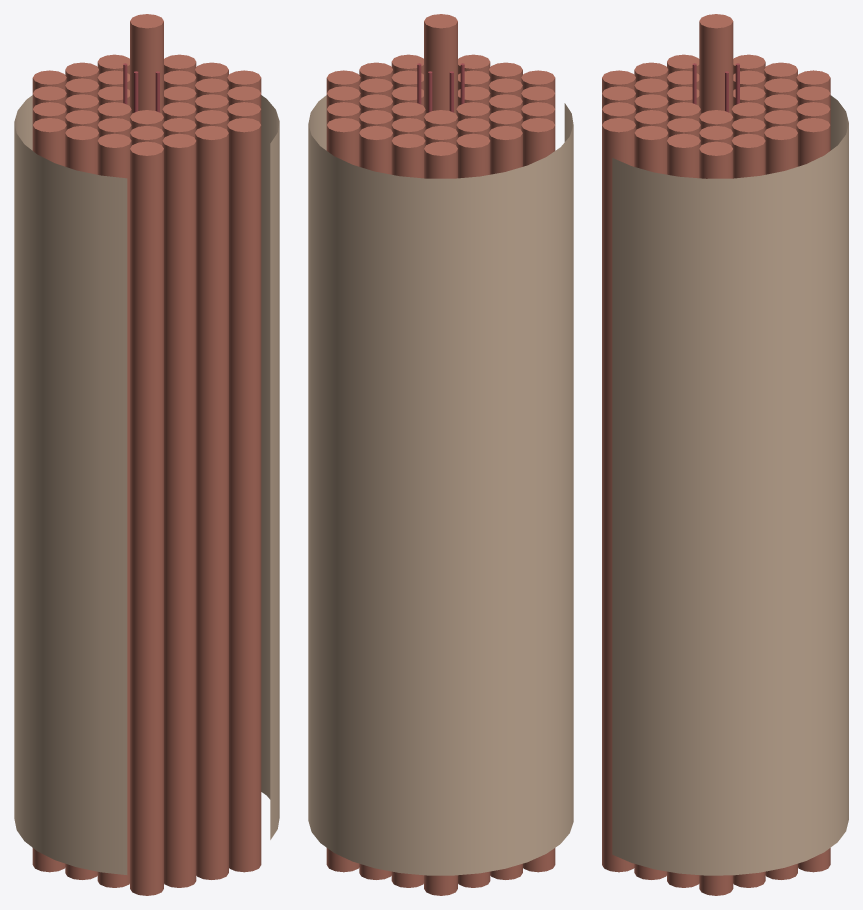
File: fascicle-context.glb
3 views of the same model, side by side, from view 1: azimuth 30°, elevation 25°; view 2: azimuth 150°, elevation 25°; view 3: azimuth 270°, elevation 25° (orthographic).
Visible parts, largest first — view 1: pilot-perimysium, pilot-fiber-33, pilot-fiber-25, pilot-fiber-35, pilot-fiber-27, pilot-fiber-23, pilot-fiber-00, pilot-fiber-31, pilot-fiber-21, pilot-fascicle-capillaries, pilot-fiber-20, pilot-fiber-19 (+18 smaller); view 2: pilot-perimysium, pilot-fiber-00, pilot-fiber-32, pilot-fiber-34, pilot-fiber-20, pilot-fiber-22, pilot-fiber-24, pilot-fiber-31, pilot-fiber-19, pilot-fascicle-capillaries, pilot-fiber-26, pilot-fiber-28 (+18 smaller); view 3: pilot-perimysium, pilot-fiber-35, pilot-fiber-00, pilot-fiber-36, pilot-fiber-28, pilot-fiber-29, pilot-fiber-34, pilot-fiber-26, pilot-fiber-30, pilot-fascicle-capillaries, pilot-fiber-22, pilot-fiber-24 (+19 smaller).
Part boxes in pixels (bbox=[...]): pilot-perimysium: bbox=[14, 95, 279, 874]; pilot-fiber-33: bbox=[130, 141, 163, 895]; pilot-fiber-25: bbox=[162, 133, 196, 887]; pilot-fiber-35: bbox=[227, 118, 261, 872]; pilot-fiber-27: bbox=[195, 126, 228, 879]; pilot-fiber-23: bbox=[97, 133, 131, 887]; pilot-fiber-00: bbox=[130, 14, 163, 113]; pilot-fiber-31: bbox=[32, 118, 66, 872]; pilot-fiber-21: bbox=[65, 125, 99, 879]; pilot-fascicle-capillaries: bbox=[123, 63, 159, 112]; pilot-fiber-20: bbox=[32, 86, 66, 108]; pilot-fiber-19: bbox=[32, 102, 66, 124]; pilot-perimysium: bbox=[308, 95, 573, 875]; pilot-fiber-00: bbox=[424, 14, 457, 113]; pilot-fiber-32: bbox=[424, 141, 457, 895]; pilot-fiber-34: bbox=[326, 118, 360, 872]; pilot-fiber-20: bbox=[456, 133, 490, 887]; pilot-fiber-22: bbox=[391, 133, 425, 887]; pilot-fiber-24: bbox=[359, 125, 393, 879]; pilot-fiber-31: bbox=[521, 118, 555, 872]; pilot-fiber-19: bbox=[489, 126, 522, 879]; pilot-fascicle-capillaries: bbox=[417, 63, 464, 112]; pilot-fiber-26: bbox=[326, 102, 360, 124]; pilot-fiber-28: bbox=[326, 86, 360, 108]; pilot-perimysium: bbox=[612, 95, 848, 875]; pilot-fiber-35: bbox=[602, 118, 635, 872]; pilot-fiber-00: bbox=[699, 14, 733, 113]; pilot-fiber-36: bbox=[699, 141, 733, 895]; pilot-fiber-28: bbox=[731, 133, 765, 887]; pilot-fiber-29: bbox=[634, 125, 668, 879]; pilot-fiber-34: bbox=[796, 118, 830, 872]; pilot-fiber-26: bbox=[764, 126, 797, 879]; pilot-fiber-30: bbox=[667, 133, 700, 887]; pilot-fascicle-capillaries: bbox=[692, 63, 739, 112]; pilot-fiber-22: bbox=[796, 86, 830, 108]; pilot-fiber-24: bbox=[796, 102, 830, 124].
Bounding box in the file's own units: 0.000389 × 0.00139 × 0.000363.
